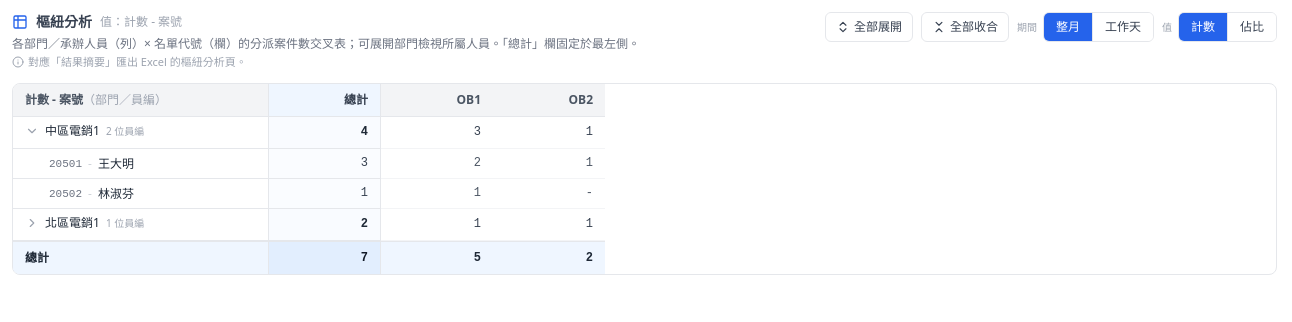
SnapshotPivotView (F116) › 全部收合 / 全部展開
Expected: the element with test id "pivot-table" is shown, [12,82,1277,274]
Click the button with test id "pivot-collapse-all": [965, 27] box [921,12,1009,42]
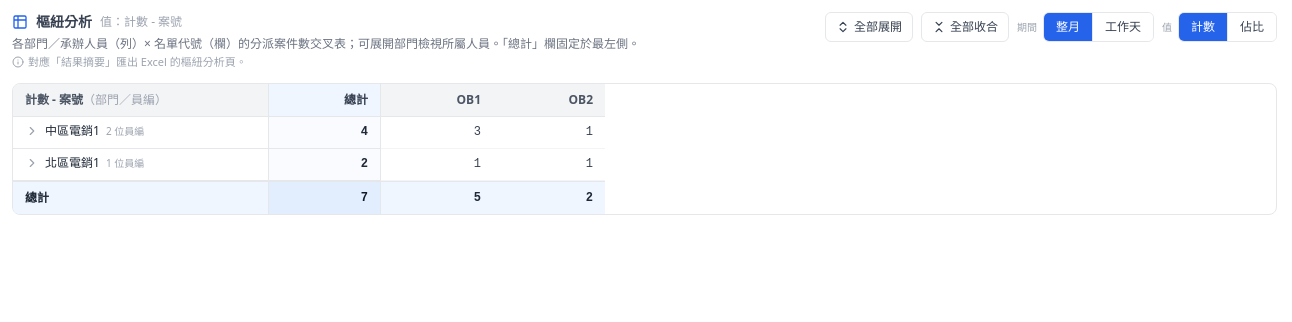
Result: the text "王大明" is gone
Click the button with test id "pivot-expand-all": [869, 27] box [825,12,913,42]
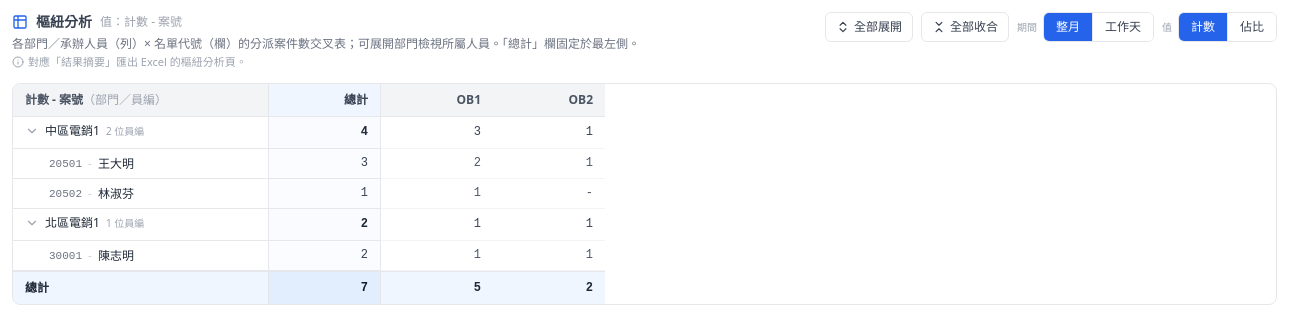
Result: the text "陳志明" is shown at [98,248,134,264]
Result: the text "王大明" is shown at [98,156,134,172]
